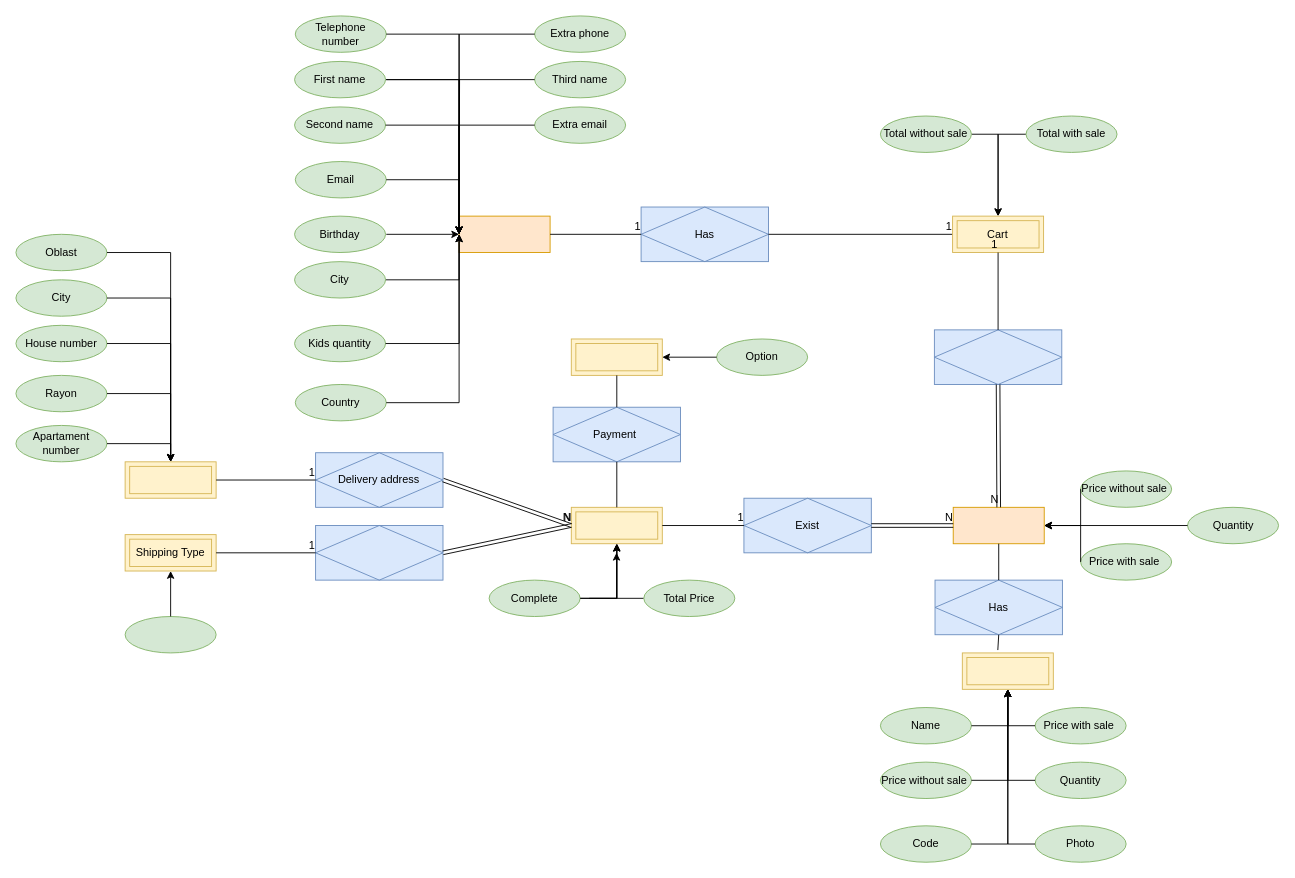
Some shapes in this 1295 by 878 pixel diagram are drawn without their labels. The box of each missing label's shape, as (x1, y1, x2, y2) in pixels:
CartHasProducts: (933, 329, 1062, 384)
Client: (458, 215, 550, 253)
Delivery type: (315, 525, 443, 580)
Item: (961, 652, 1053, 689)
Items: (952, 506, 1044, 544)
Orders: (570, 506, 662, 544)
Payment type: (570, 338, 662, 375)
Shipping Address: (124, 461, 216, 498)
Type: (124, 616, 216, 653)
